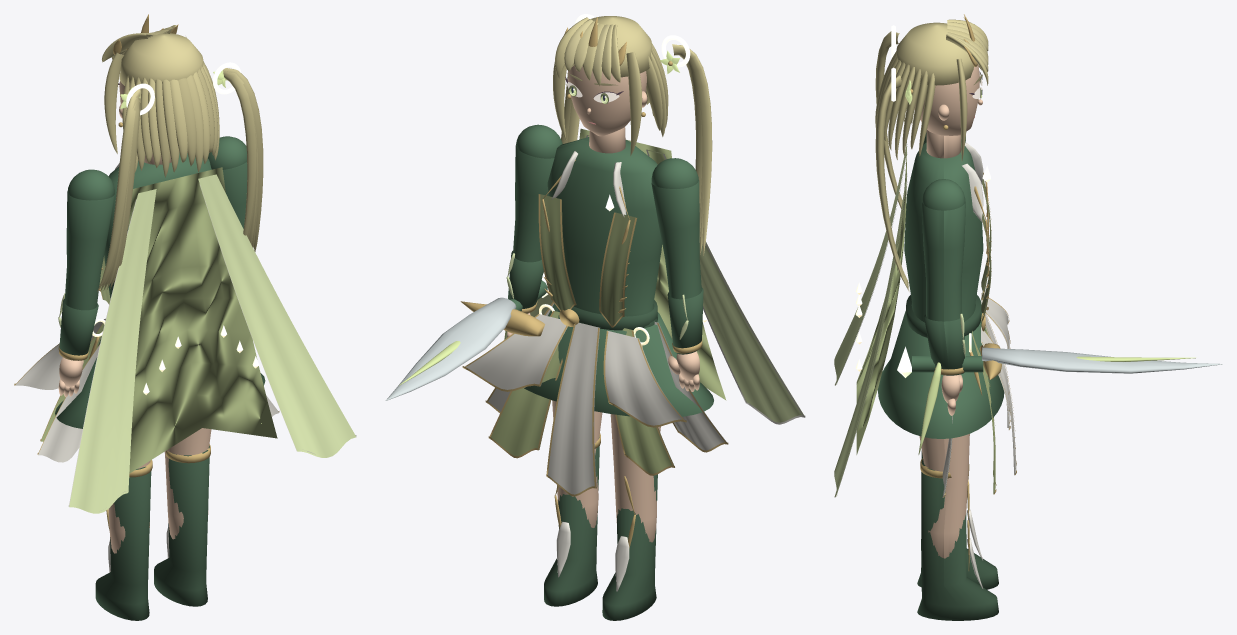
File: character_14.glb
3 views of the same model, side by side, from view 1: azimuth 30°, elevation 25°; view 2: azimuth 150°, elevation 25°; view 3: azimuth 270°, elevation 25° (orthographic).
Visible parts, largest first — view 1: _MeshInstance3D_4174, _MeshInstance3D_4177, _MeshInstance3D_4175, _MeshInstance3D_4216, _MeshInstance3D_4191, _MeshInstance3D_4185, _MeshInstance3D_4182, _MeshInstance3D_4217, _MeshInstance3D_4148, _MeshInstance3D_4218, _MeshInstance3D_4222, _MeshInstance3D_4194 (+8 smaller); view 2: _MeshInstance3D_4148, _MeshInstance3D_4216, _MeshInstance3D_4175, _MeshInstance3D_4168, _MeshInstance3D_4185, _MeshInstance3D_4194, _MeshInstance3D_4152, _MeshInstance3D_4191, _MeshInstance3D_4197, _MeshInstance3D_4182, _MeshInstance3D_4154, _MeshInstance3D_4170 (+24 smaller); view 3: _MeshInstance3D_4148, _MeshInstance3D_4194, _MeshInstance3D_4216, _MeshInstance3D_4191, _MeshInstance3D_4190, _MeshInstance3D_4197, _MeshInstance3D_4174, _MeshInstance3D_4222, _MeshInstance3D_4203, _MeshInstance3D_4177, _MeshInstance3D_4195, _MeshInstance3D_4175 (+10 smaller).
Boxes of the visible parts, <box> form: _MeshInstance3D_4174: <box>128,167,277,473</box>; _MeshInstance3D_4177: <box>198,174,356,457</box>; _MeshInstance3D_4175: <box>69,189,156,513</box>; _MeshInstance3D_4216: <box>97,25,257,291</box>; _MeshInstance3D_4191: <box>154,445,209,606</box>; _MeshInstance3D_4185: <box>64,169,114,360</box>; _MeshInstance3D_4182: <box>95,466,151,620</box>; _MeshInstance3D_4217: <box>122,66,218,172</box>; _MeshInstance3D_4148: <box>55,152,265,428</box>; _MeshInstance3D_4218: <box>135,61,219,177</box>; _MeshInstance3D_4222: <box>103,68,263,290</box>; _MeshInstance3D_4194: <box>208,136,247,228</box>; _MeshInstance3D_4148: <box>524,137,713,416</box>; _MeshInstance3D_4216: <box>553,16,712,255</box>; _MeshInstance3D_4175: <box>646,149,804,422</box>; _MeshInstance3D_4168: <box>548,322,599,494</box>; _MeshInstance3D_4185: <box>651,158,701,354</box>; _MeshInstance3D_4194: <box>510,124,562,313</box>; _MeshInstance3D_4152: <box>605,330,684,425</box>; _MeshInstance3D_4191: <box>544,437,599,606</box>; _MeshInstance3D_4197: <box>385,297,516,400</box>; _MeshInstance3D_4182: <box>602,474,657,620</box>; _MeshInstance3D_4154: <box>466,314,567,389</box>; _MeshInstance3D_4170: <box>491,311,561,456</box>; _MeshInstance3D_4148: <box>877,142,1004,438</box>; _MeshInstance3D_4194: <box>912,179,983,375</box>; _MeshInstance3D_4216: <box>877,19,988,287</box>; _MeshInstance3D_4191: <box>917,459,998,620</box>; _MeshInstance3D_4190: <box>919,434,969,558</box>; _MeshInstance3D_4197: <box>982,347,1222,373</box>; _MeshInstance3D_4174: <box>856,141,906,454</box>; _MeshInstance3D_4222: <box>875,34,909,291</box>; _MeshInstance3D_4203: <box>914,63,982,135</box>; _MeshInstance3D_4177: <box>834,175,906,497</box>; _MeshInstance3D_4195: <box>924,314,964,369</box>; _MeshInstance3D_4175: <box>834,145,906,384</box>.
Size of the model in its own units: 1.26 by 2.44 by 1.47.
